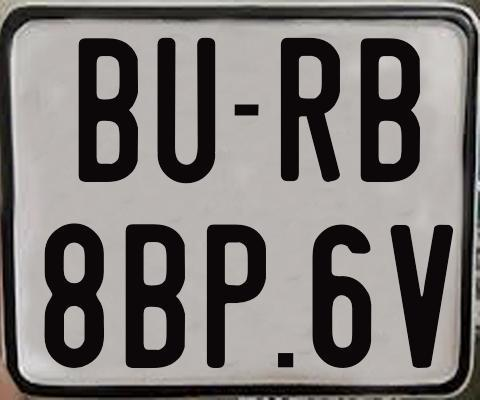6: (312, 224, 373, 371)
8: (41, 223, 106, 371)
B: (79, 38, 144, 188), (360, 36, 423, 185), (126, 222, 187, 370)
P: (204, 221, 265, 367)
R: (278, 38, 341, 188)
U: (154, 37, 217, 186)
V: (389, 225, 454, 373)
